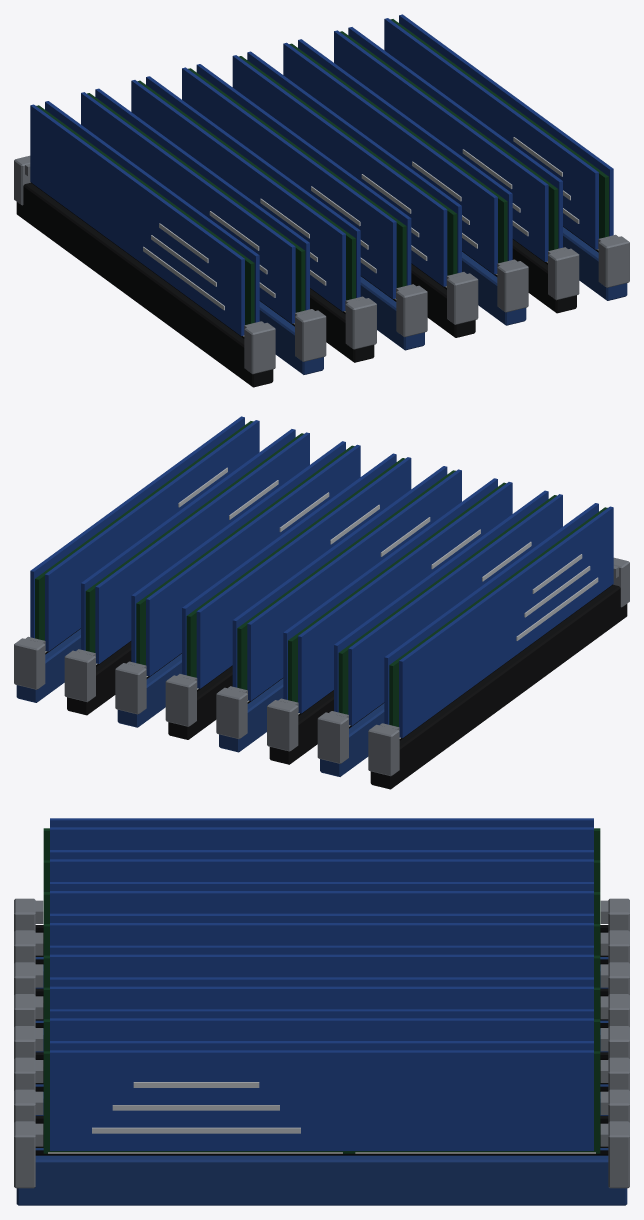
File: hwm_ram_ddr5_32gb.glb
3 views of the same model, one above another, from view 1: azimuth 30°, elevation 25°; view 2: azimuth 150°, elevation 25°; view 3: azimuth 270°, elevation 25° (orthographic). The views are drawn at different scales.
Parts seen in each view (by area): view 1: Stick_0, Slots, Stick_3, Stick_2, Stick_4, Stick_7, Stick_5, Stick_1, Stick_6, Latch_4_1, Latch_2_1, Latch_7_1 (+6 smaller); view 2: Stick_0, Slots, Stick_3, Stick_2, Stick_4, Stick_7, Stick_5, Stick_1, Stick_6, Latch_4_0, Latch_2_0, Latch_7_0 (+6 smaller); view 3: Stick_7, Slots, Stick_4, Stick_5, Stick_3, Stick_0, Stick_6, Stick_1, Stick_2, Latch_7_0, Latch_7_1, Latch_1_0 (+13 smaller).
Part boxes in pixels (left/top/right/bottom): Stick_0: left=30, top=101, right=259, bottom=336; Slots: left=16, top=182, right=627, bottom=387; Stick_3: left=182, top=64, right=411, bottom=299; Stick_2: left=131, top=76, right=360, bottom=312; Stick_4: left=232, top=51, right=461, bottom=287; Stick_7: left=384, top=14, right=613, bottom=250; Stick_5: left=283, top=39, right=512, bottom=274; Stick_1: left=81, top=88, right=309, bottom=324; Stick_6: left=334, top=27, right=562, bottom=262; Latch_4_1: left=446, top=272, right=478, bottom=324; Latch_2_1: left=345, top=296, right=376, bottom=349; Latch_7_1: left=598, top=234, right=629, bottom=287; Stick_0: left=384, top=503, right=613, bottom=738; Slots: left=16, top=584, right=627, bottom=789; Stick_3: left=232, top=466, right=461, bottom=701; Stick_2: left=283, top=478, right=512, bottom=714; Stick_4: left=182, top=453, right=411, bottom=689; Stick_7: left=30, top=416, right=259, bottom=652; Stick_5: left=131, top=441, right=360, bottom=676; Stick_1: left=334, top=490, right=562, bottom=726; Stick_6: left=81, top=429, right=309, bottom=664; Latch_4_0: left=165, top=674, right=197, bottom=726; Latch_2_0: left=267, top=698, right=298, bottom=751; Latch_7_0: left=14, top=636, right=45, bottom=689; Stick_7: left=43, top=1041, right=600, bottom=1153; Slots: left=16, top=925, right=627, bottom=1205; Stick_4: left=43, top=945, right=600, bottom=987; Stick_5: left=43, top=977, right=600, bottom=1019; Stick_3: left=43, top=913, right=600, bottom=955; Stick_0: left=43, top=818, right=600, bottom=860; Stick_6: left=43, top=1009, right=600, bottom=1051; Stick_1: left=43, top=850, right=600, bottom=891; Stick_2: left=43, top=882, right=600, bottom=923; Latch_7_0: left=600, top=1121, right=629, bottom=1188; Latch_7_1: left=14, top=1121, right=43, bottom=1188; Latch_1_0: left=600, top=930, right=629, bottom=963.
Bounding box in the file's own units: 0.1346 × 0.0404 × 0.1472.
